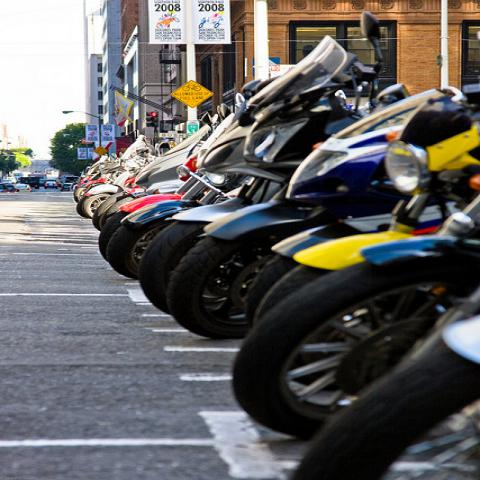car: (61, 176, 80, 190), (12, 184, 32, 193), (44, 181, 58, 189), (2, 179, 13, 184)
motorcycle: (148, 80, 478, 346), (138, 85, 411, 319), (228, 196, 480, 442), (103, 37, 351, 278), (244, 96, 479, 334), (302, 310, 476, 470), (241, 196, 399, 332), (96, 125, 212, 226), (98, 153, 210, 256), (74, 132, 156, 219), (74, 152, 124, 203)
